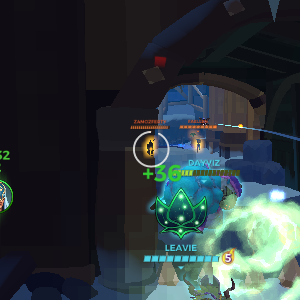model: (143, 134, 159, 162), (195, 137, 203, 155)
